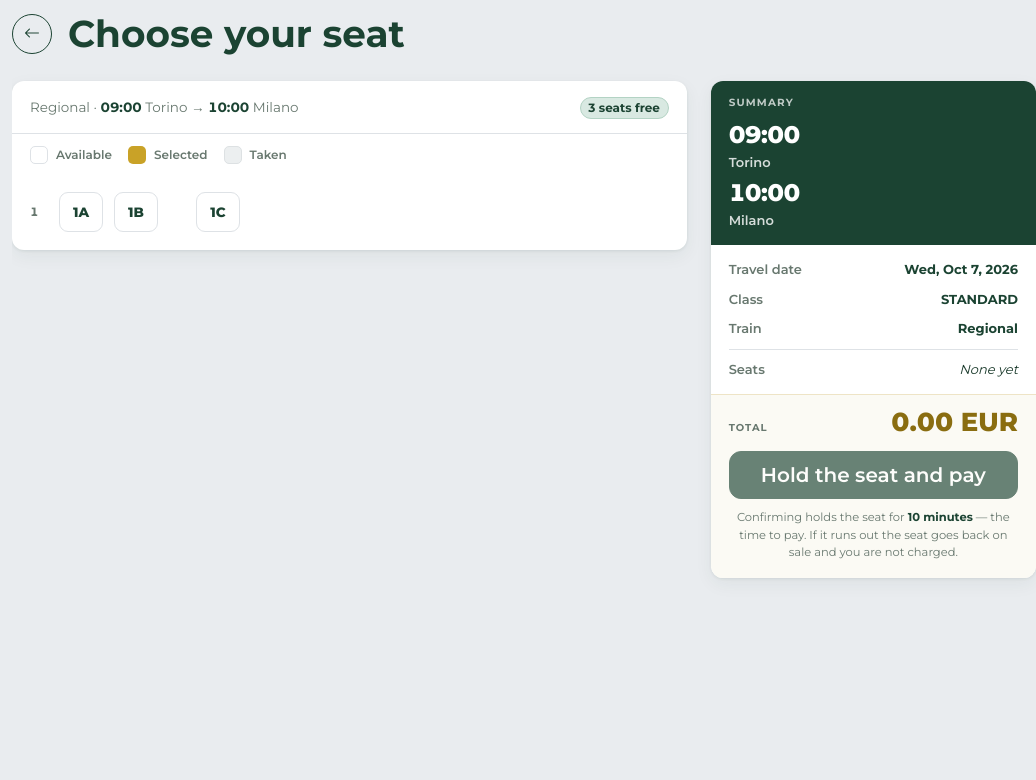
Scenario: seat selection › shows a definitive refusal such as a changed price, and starts the next attempt fresh
Click the button "1A": click(81, 212) 59,192 -> 103,232
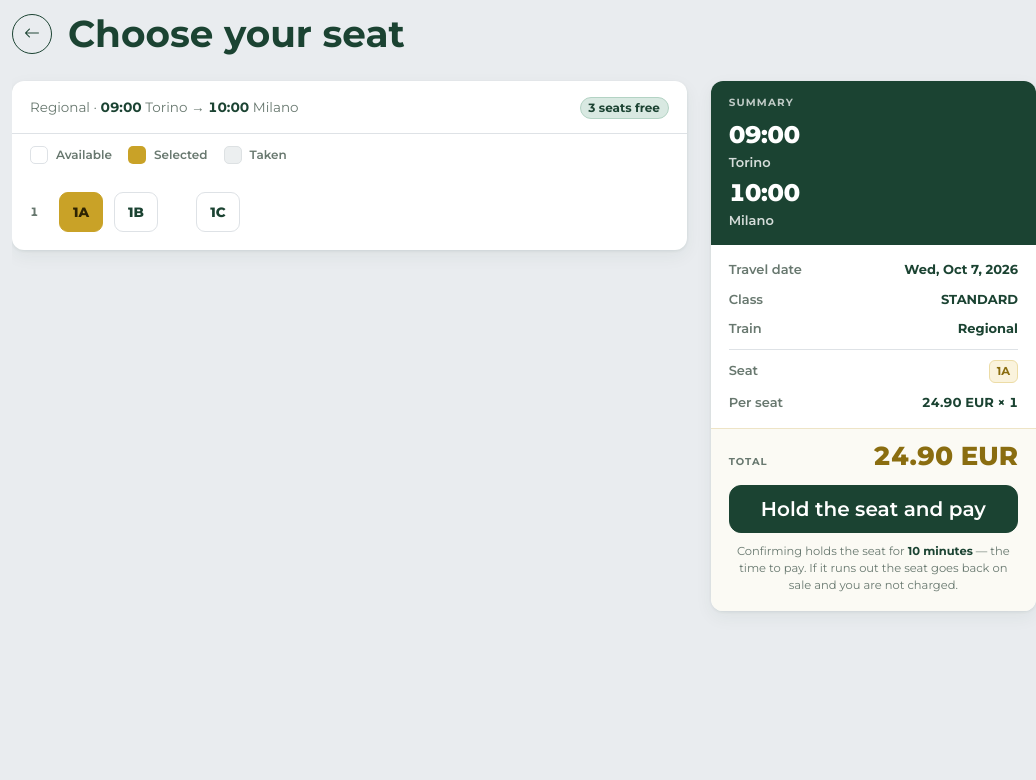
Click the button "Hold the seat and pay": click(873, 509) 729,485 -> 1018,533
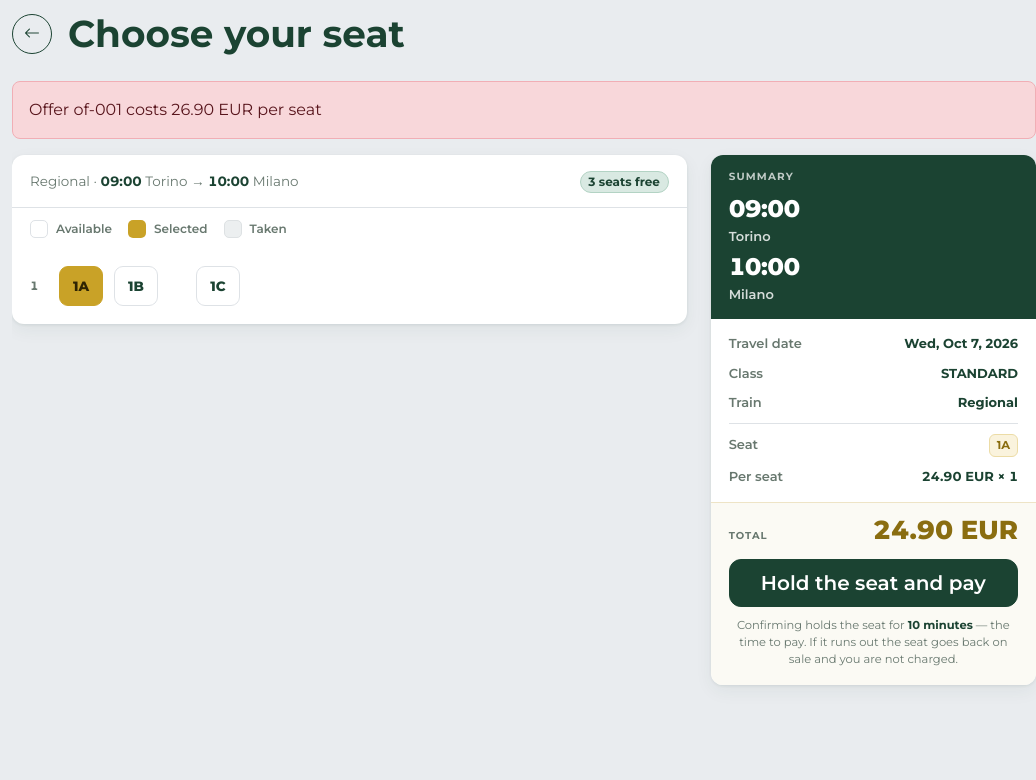
Expected: the text "Offer of-001 costs 26.90 EUR per seat" is shown, 12,81 -> 1035,139
